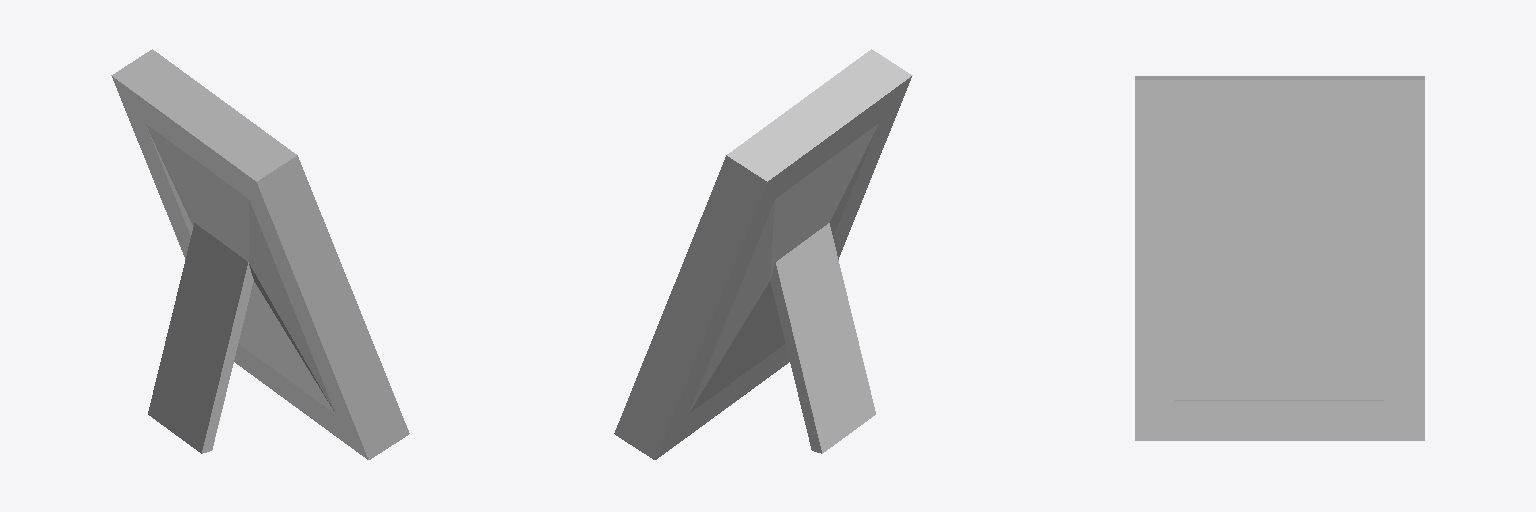
The model's file is pictureframe1.obj.
3 renders of one model, left to right at view 1: azimuth 30°, elevation 25°; view 2: azimuth 150°, elevation 25°; view 3: azimuth 270°, elevation 25°, orthographic.
Parts seen in each view (by area): view 1: pCube5; view 2: pCube5; view 3: pCube5.
Part boxes in pixels (bbox=[...]): pCube5: bbox=[111, 49, 409, 459]; pCube5: bbox=[614, 49, 912, 459]; pCube5: bbox=[1135, 76, 1424, 440].
Size of the model in its own units: 0.5892 by 1.12 by 0.9105.